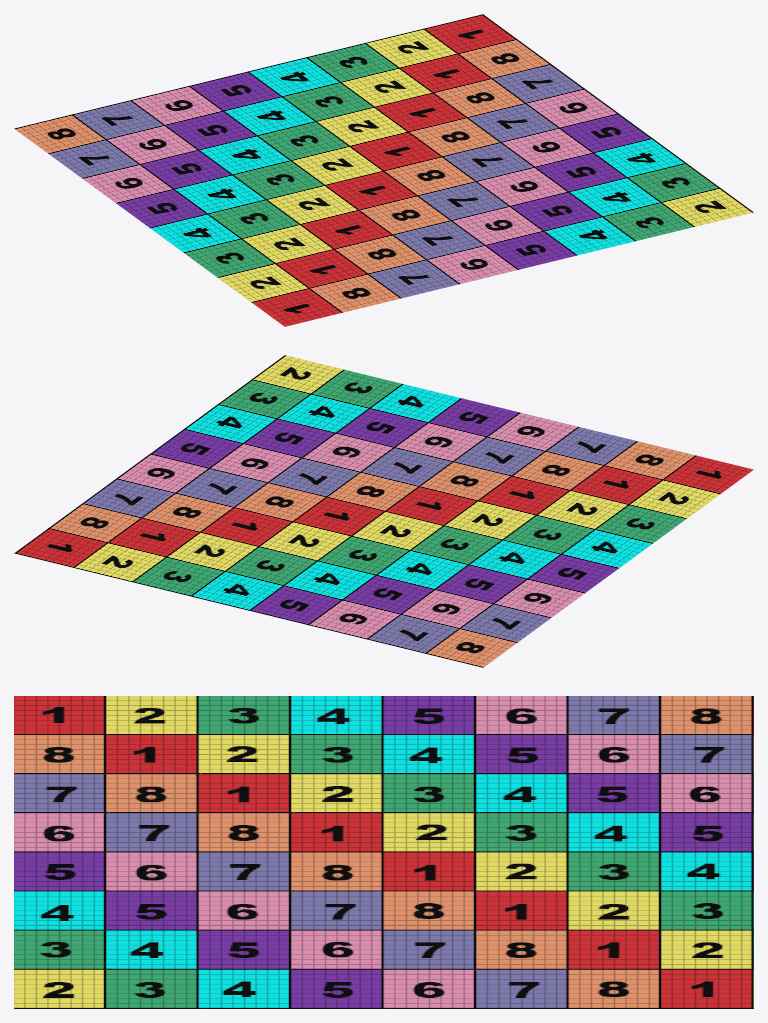
File: watertess_ring5_edge.fbx
3 renders of one model, top to bottom at view 1: azimuth 30°, elevation 25°; view 2: azimuth 150°, elevation 25°; view 3: azimuth 270°, elevation 25°, orthographic. The views are drawn at different scales.
Parts seen in each view (by area): view 1: watertess_ring5_edge; view 2: watertess_ring5_edge; view 3: watertess_ring5_edge.
Boxes of the visible parts, x1=… form: watertess_ring5_edge: x1=14, y1=14, x2=753, y2=326; watertess_ring5_edge: x1=14, y1=355, x2=753, y2=667; watertess_ring5_edge: x1=14, y1=696, x2=753, y2=1008.
Bounding box in the file's own units: 128 × 2.09e-05 × 128.
